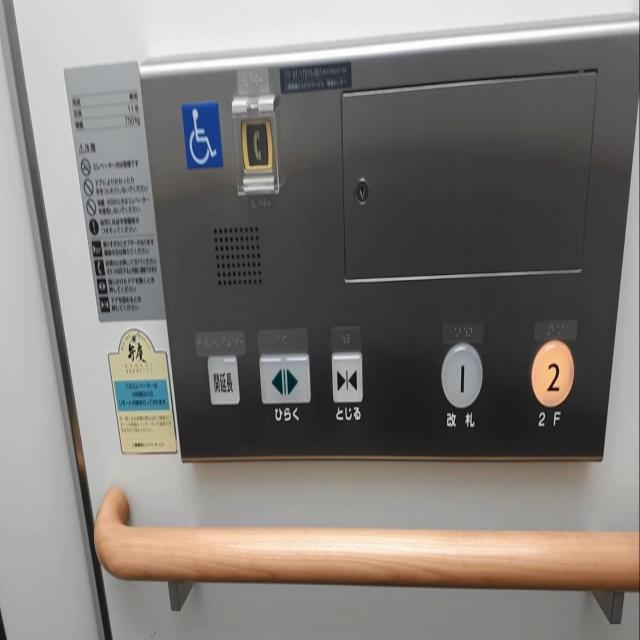1: (440, 338, 483, 408)
2: (528, 336, 576, 407)
CH: (180, 93, 224, 177)
call: (238, 113, 274, 176)
close: (330, 348, 364, 408)
keyhole: (352, 175, 371, 208)
open: (256, 349, 312, 408)
